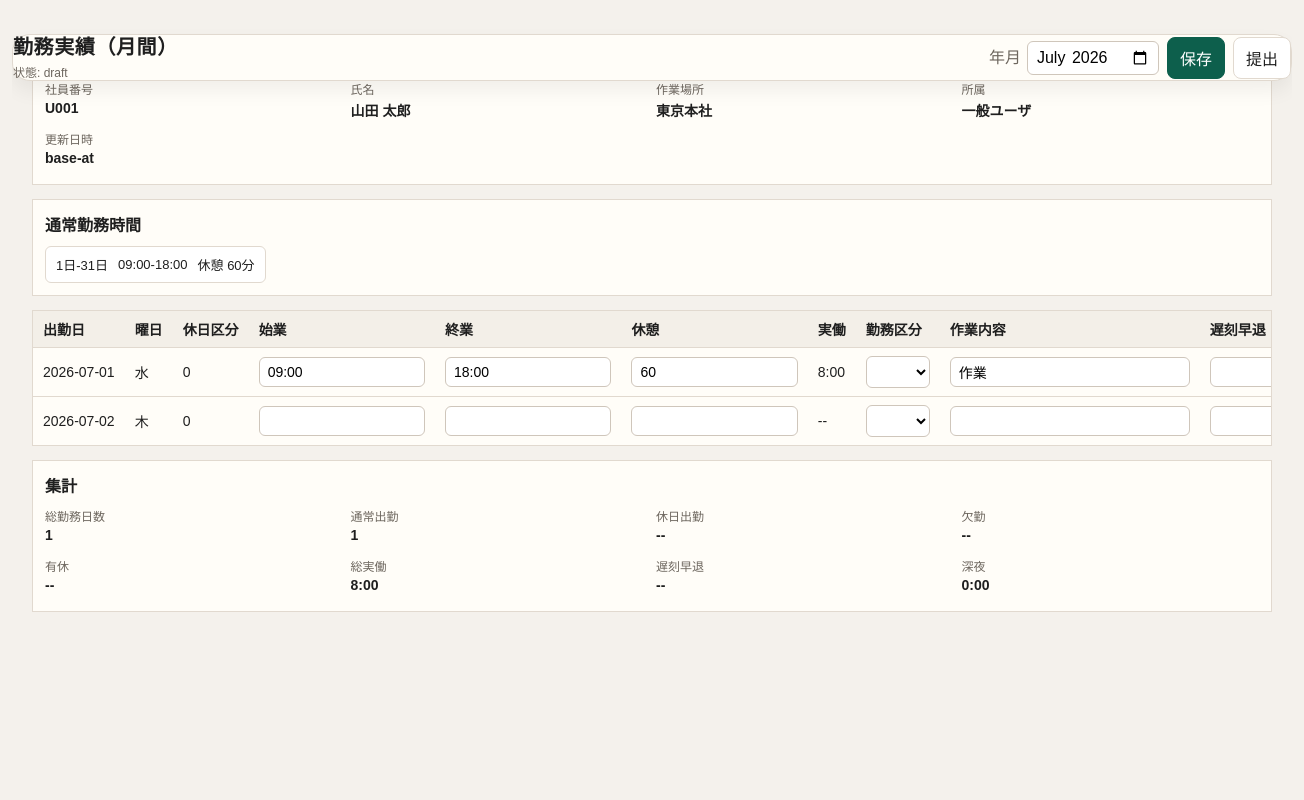
勤務実績画面 › 保存APIの400はBackend入力チェックエラーを赤色領域に表示する
Replace the text in the field named "2026-07-01 作業内容" with "保存エラー確認" at (1070, 372), box [950,357,1190,387]
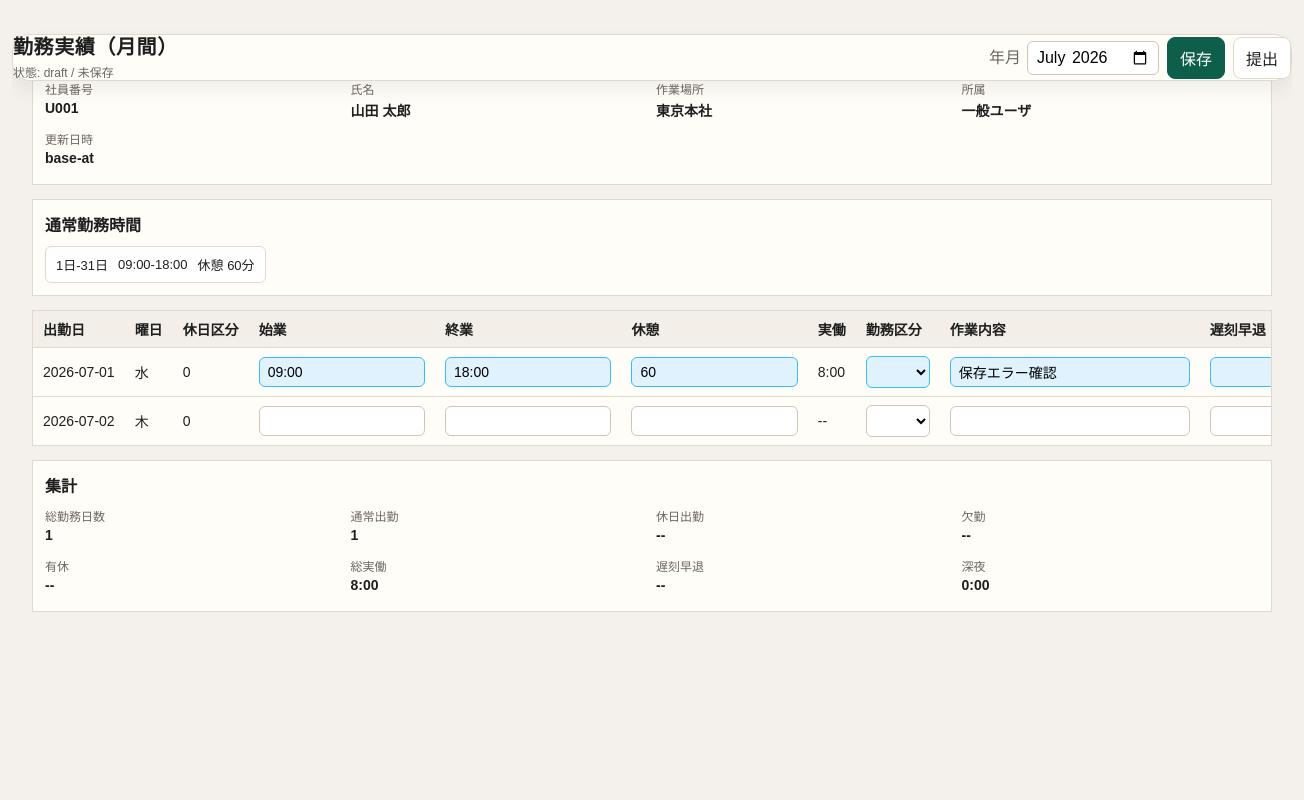
Click the button "保存" at (1196, 58), box [1167,36,1225,78]
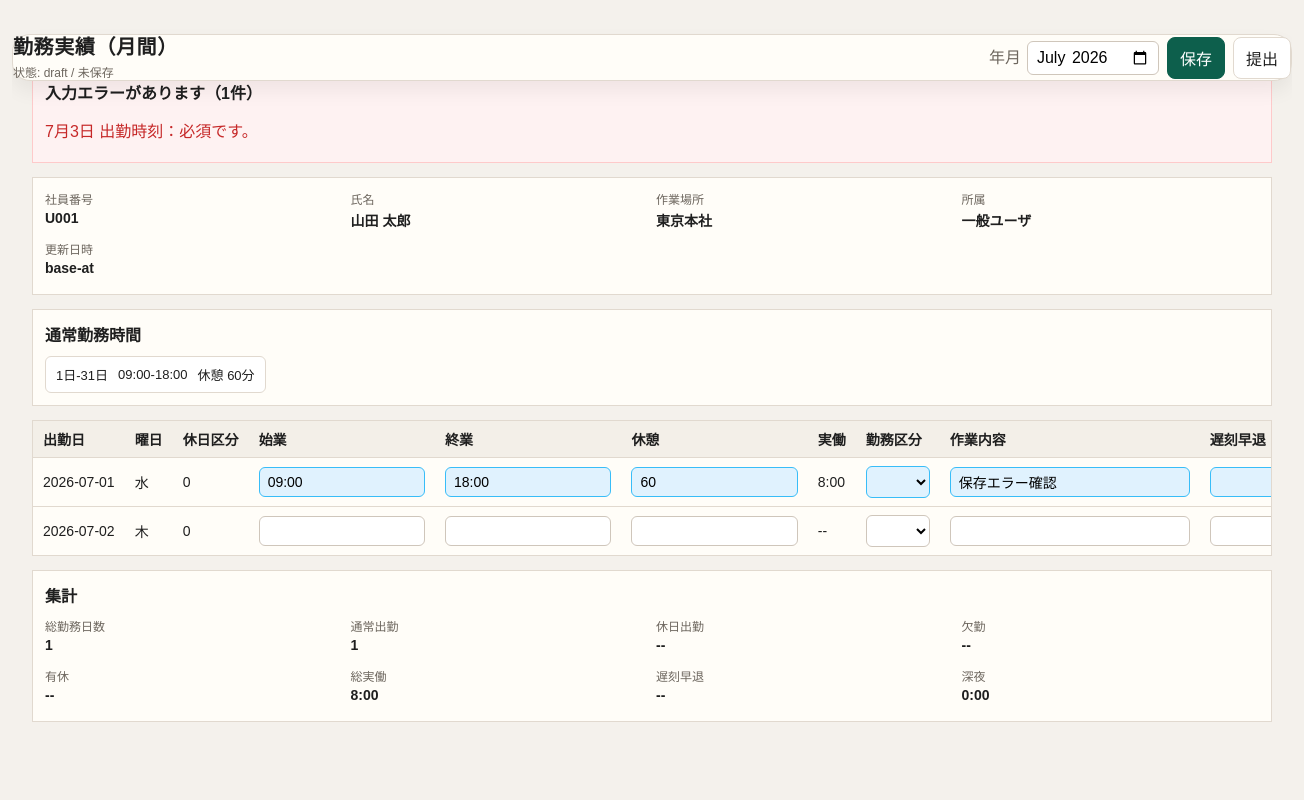
Result: the message shows "7月3日 出勤時刻：必須です。" at [45,120,1251,144]
Result: the heading "入力エラーがあります（1件）" is shown at [45,85,262,102]
